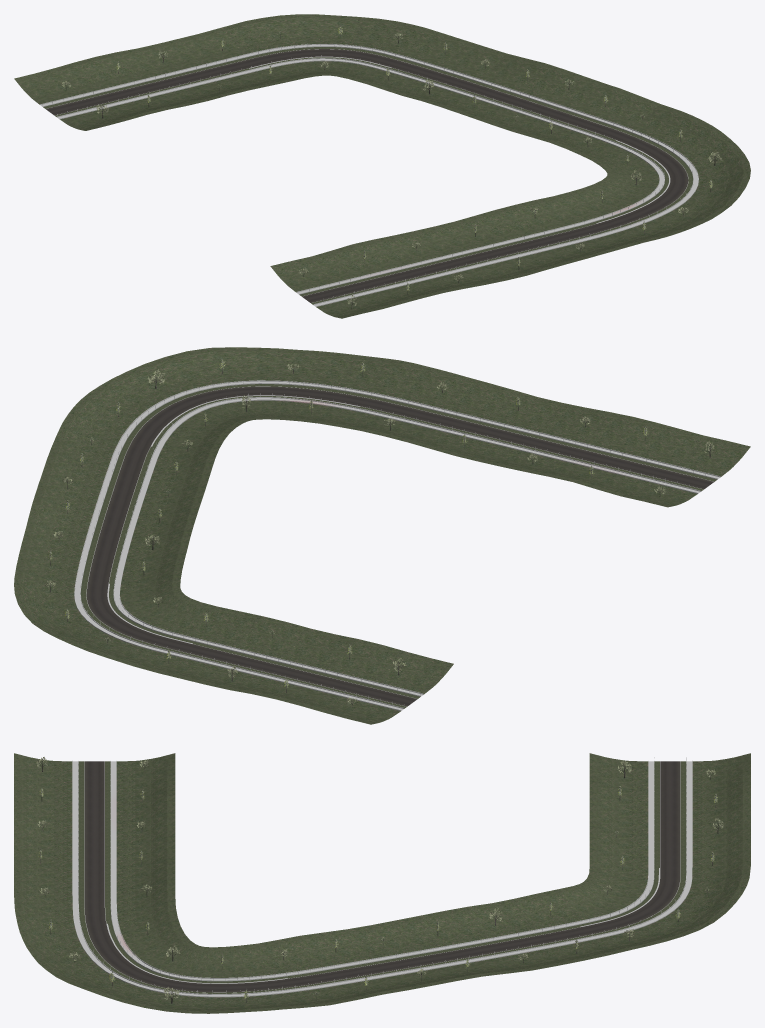
The picture shows the model from 3 angles, top to bottom: view 1: azimuth 30°, elevation 25°; view 2: azimuth 150°, elevation 25°; view 3: azimuth 270°, elevation 25°; orthographic projection. The views are drawn at different scales.
Visible parts, largest first — view 1: Grass, Road, Track, Trees; view 2: Grass, Road, Track, Trees; view 3: Grass, Road, Track, Trees.
Boxes of the visible parts, bbox=[...] form: Grass: bbox=[14, 14, 750, 318]; Road: bbox=[46, 49, 688, 302]; Track: bbox=[40, 43, 698, 306]; Trees: bbox=[62, 25, 722, 309]; Grass: bbox=[14, 347, 750, 724]; Road: bbox=[86, 386, 714, 706]; Track: bbox=[74, 380, 720, 710]; Trees: bbox=[44, 359, 714, 707]; Grass: bbox=[14, 753, 750, 1013]; Road: bbox=[84, 761, 680, 992]; Track: bbox=[72, 757, 692, 997]; Trees: bbox=[36, 757, 723, 1003].
Bounding box in the file's own units: 53565 × 1825 × 64000.
